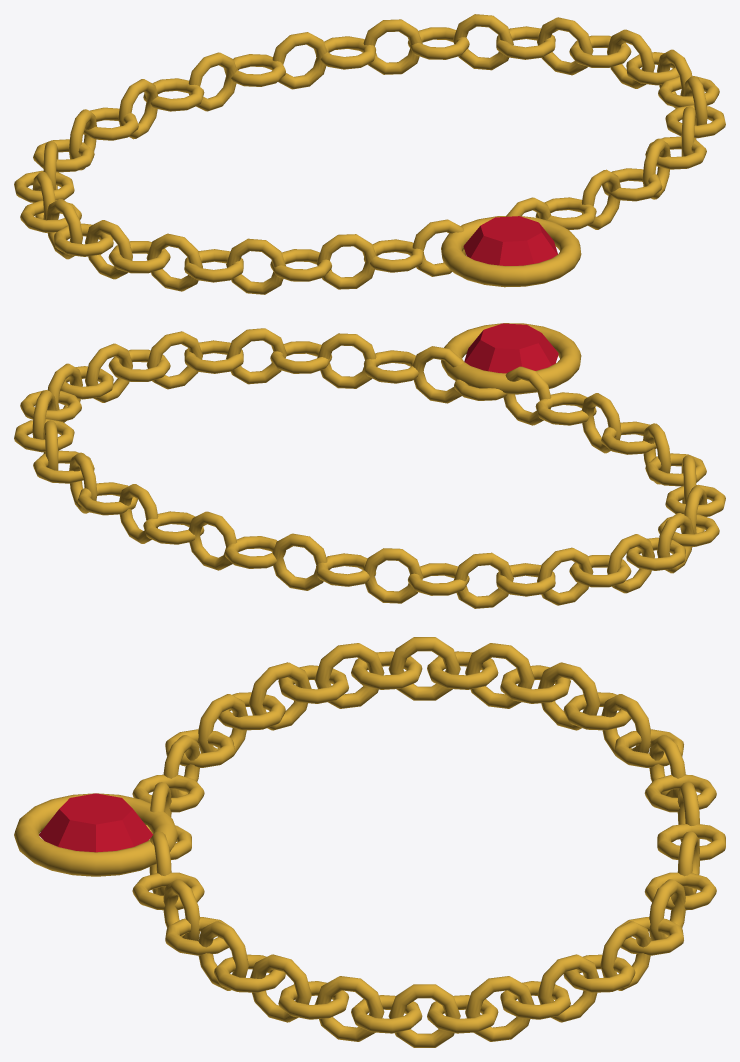
File: necklace.glb
3 views of the same model, one above another, from view 1: azimuth 30°, elevation 25°; view 2: azimuth 150°, elevation 25°; view 3: azimuth 270°, elevation 25° (orthographic). The views are drawn at different scales.
Visible parts, largest first — view 1: necklace; view 2: necklace; view 3: necklace.
Part boxes in pixels (left/top/right/bottom): necklace: left=14, top=14, right=725, bottom=294; necklace: left=14, top=323, right=725, bottom=608; necklace: left=14, top=637, right=725, bottom=1047.
Bounding box in the file's own units: 0.2153 × 0.0174 × 0.1734.
